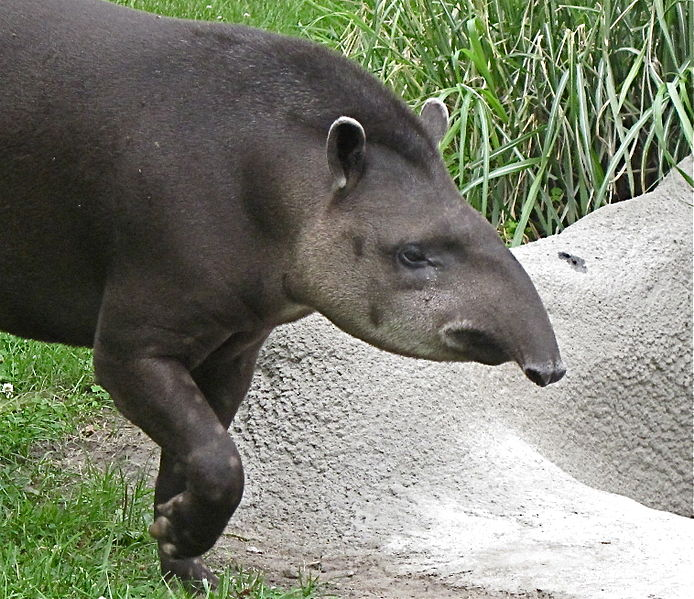Anta: (4, 3, 579, 590)
